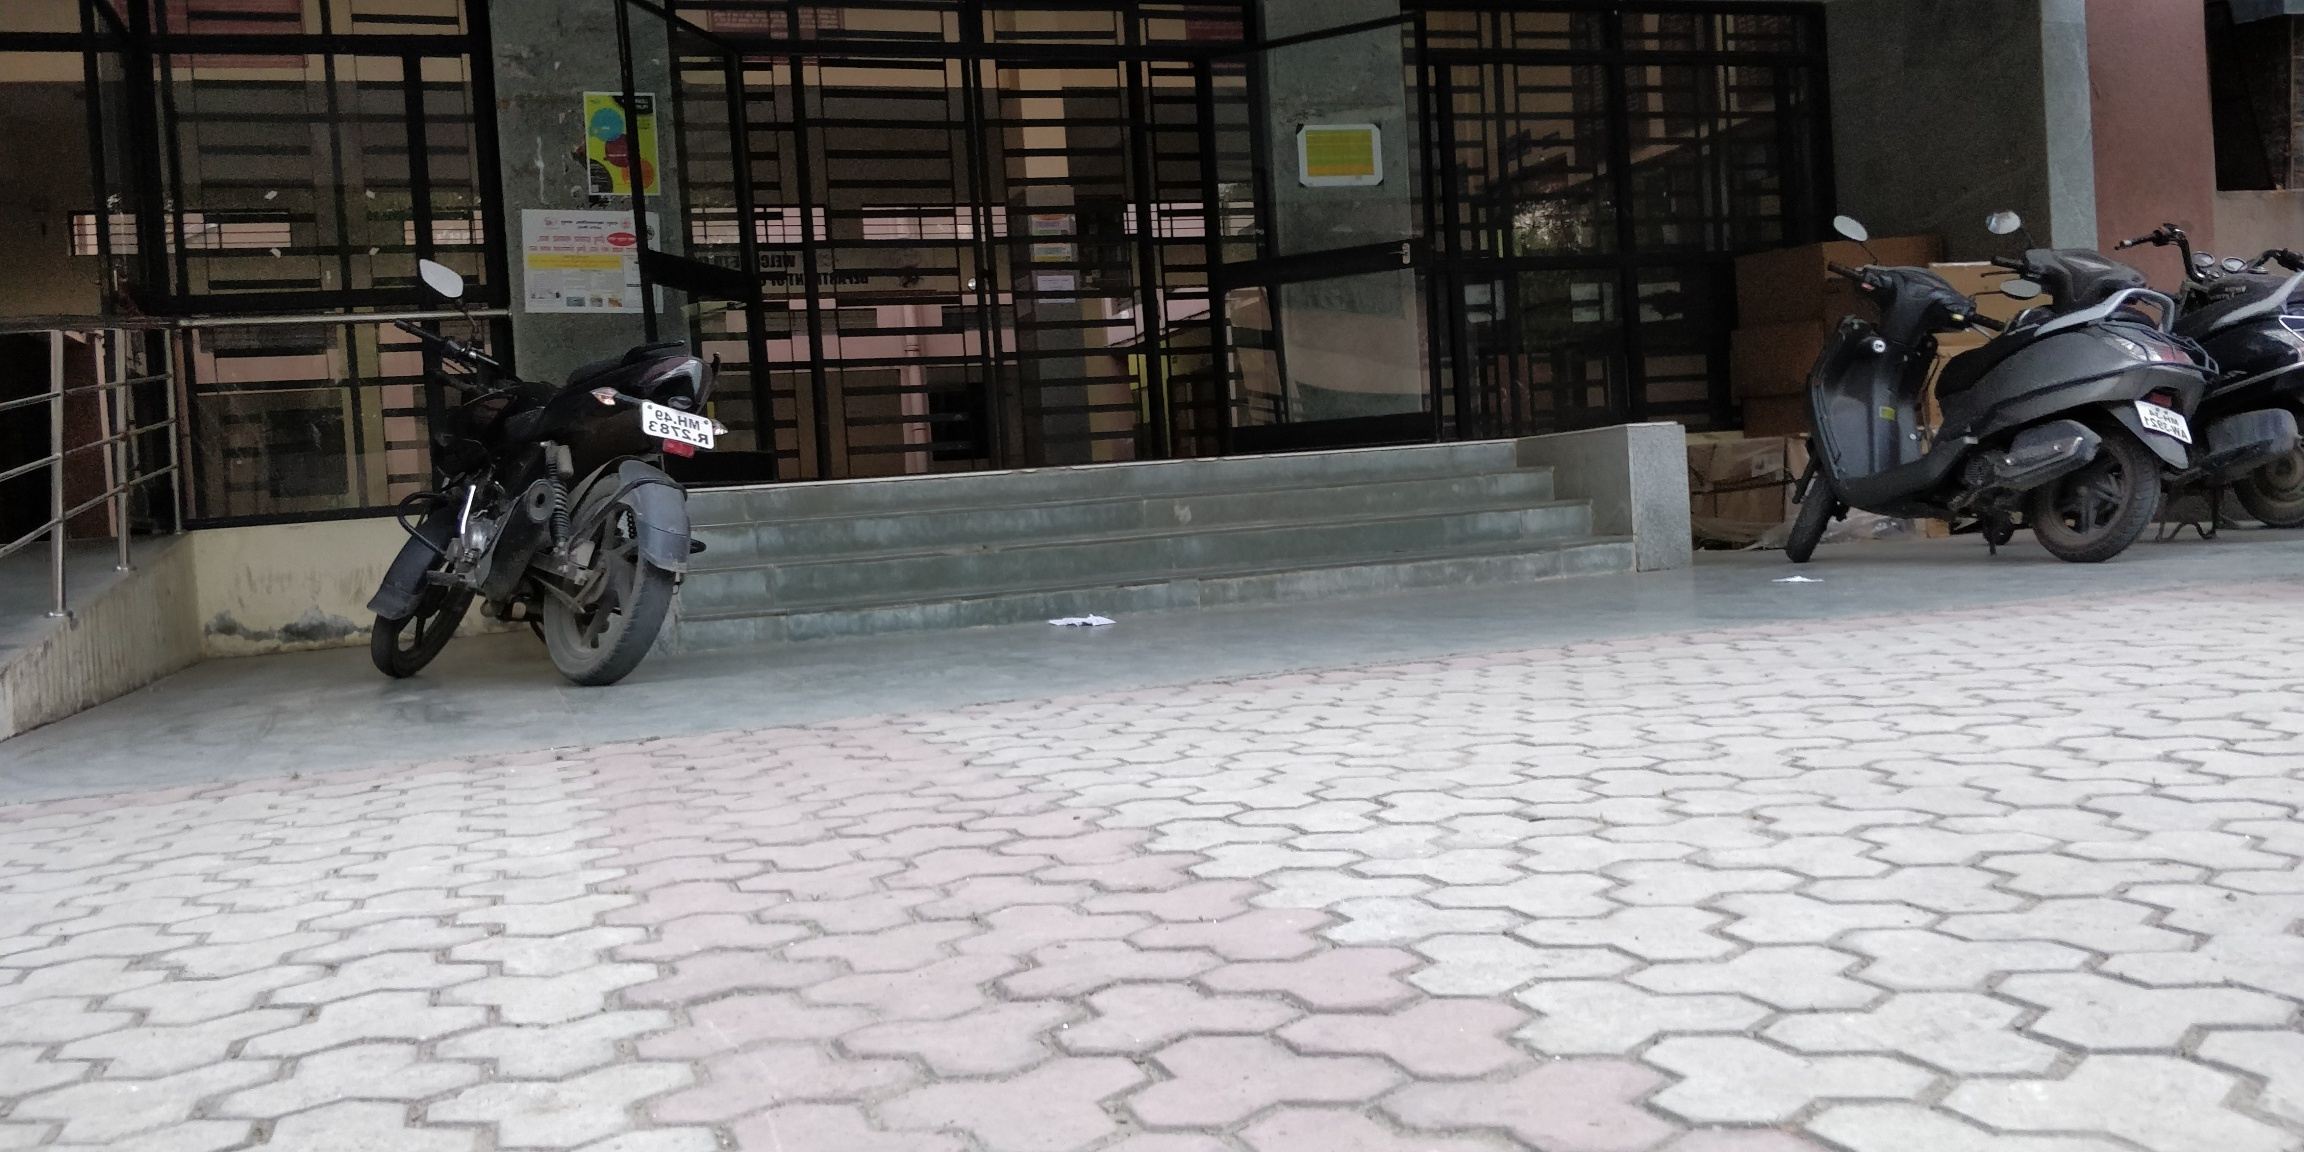stairs_up: (664, 467, 1635, 605)
